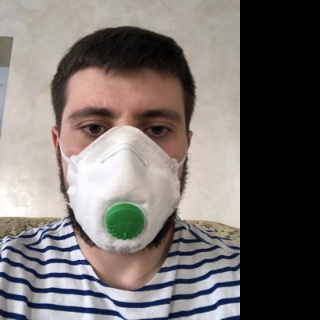with_mask: (63, 89, 185, 254)
